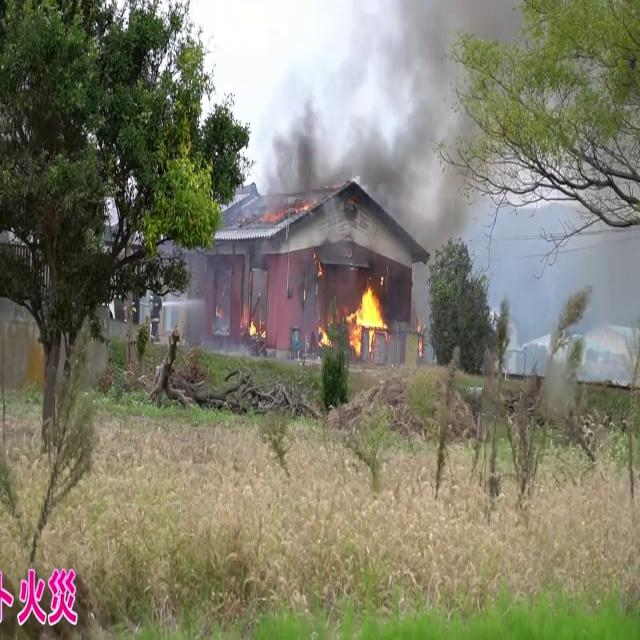Fire: (342, 279, 388, 353)
Smoke: (240, 1, 461, 218)
